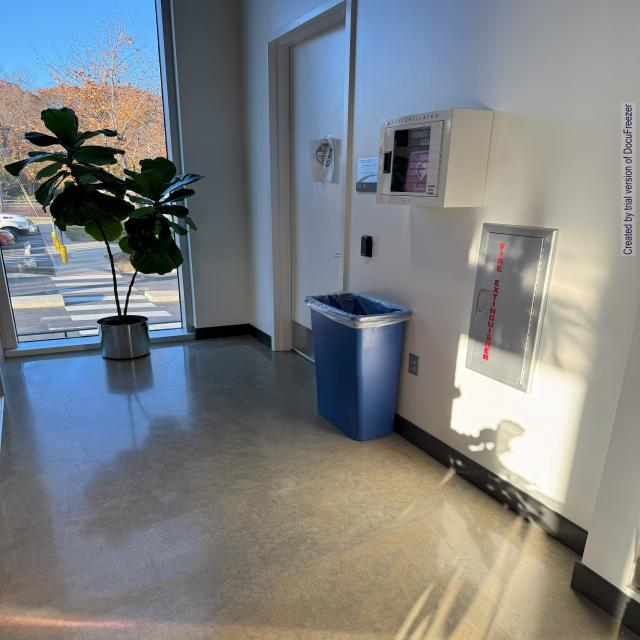Trash bin: (301, 274, 418, 446)
